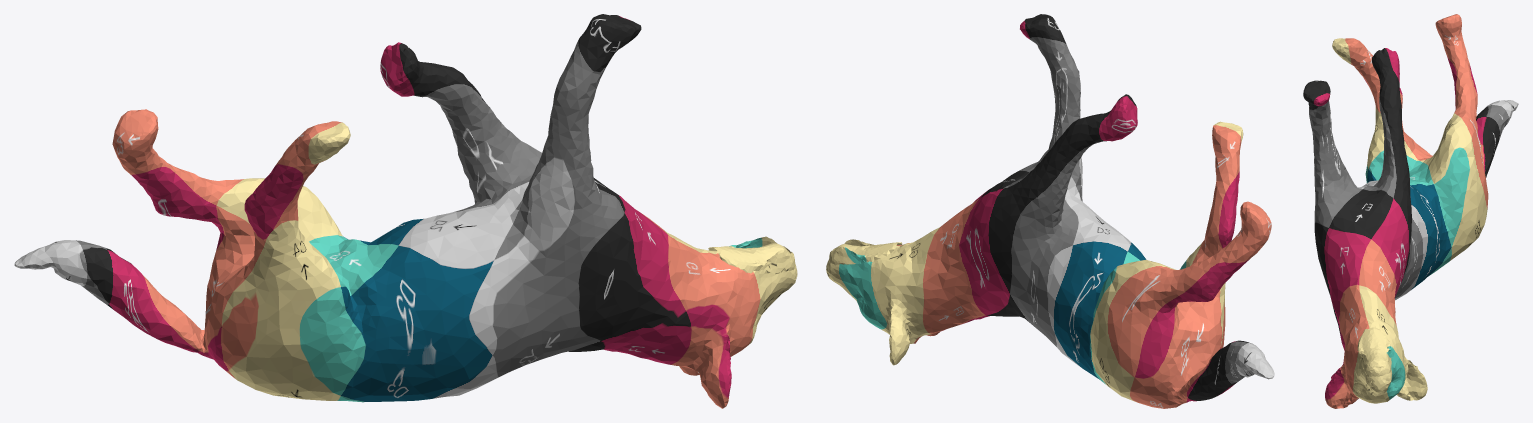
Rendered from fox_02-dog_05.obj.
3 views of the same model, side by side, from view 1: azimuth 30°, elevation 25°; view 2: azimuth 150°, elevation 25°; view 3: azimuth 270°, elevation 25° (orthographic). The views are drawn at different scales.
Visible parts, largest first — view 1: fox_02-dog_05_export; view 2: fox_02-dog_05_export; view 3: fox_02-dog_05_export.
Boxes of the visible parts, <box> form: fox_02-dog_05_export: <box>14,14,797,408</box>; fox_02-dog_05_export: <box>826,14,1274,408</box>; fox_02-dog_05_export: <box>1303,14,1518,408</box>.
Size of the model in its own units: 1.13 by 0.6869 by 0.4708.
